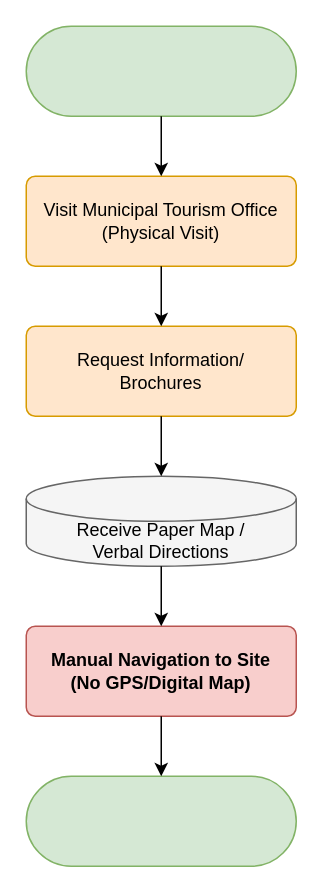
Some shapes in this 323 by 893 pixel diagram are drawn without their labels. The centre of each missing label's shape, as x and y in pixels:
"Start: Tourist Arrives in Mangatarem" goes at point 160,70.
"Visit Attraction (Risk: Closed/Hard to Find)" goes at point 160,820.
